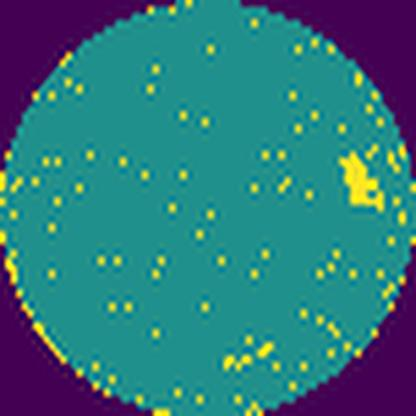Loc: (338, 146, 389, 212)
